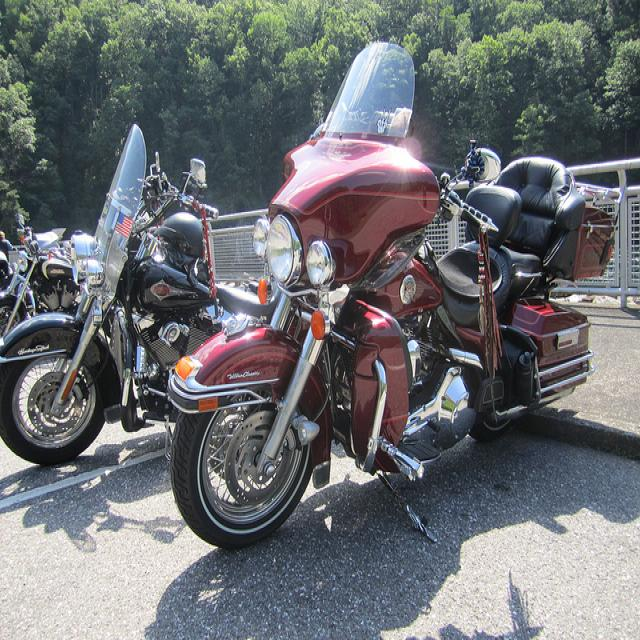motor: (169, 37, 623, 549), (1, 121, 267, 464), (26, 155, 223, 285), (0, 237, 82, 347)
